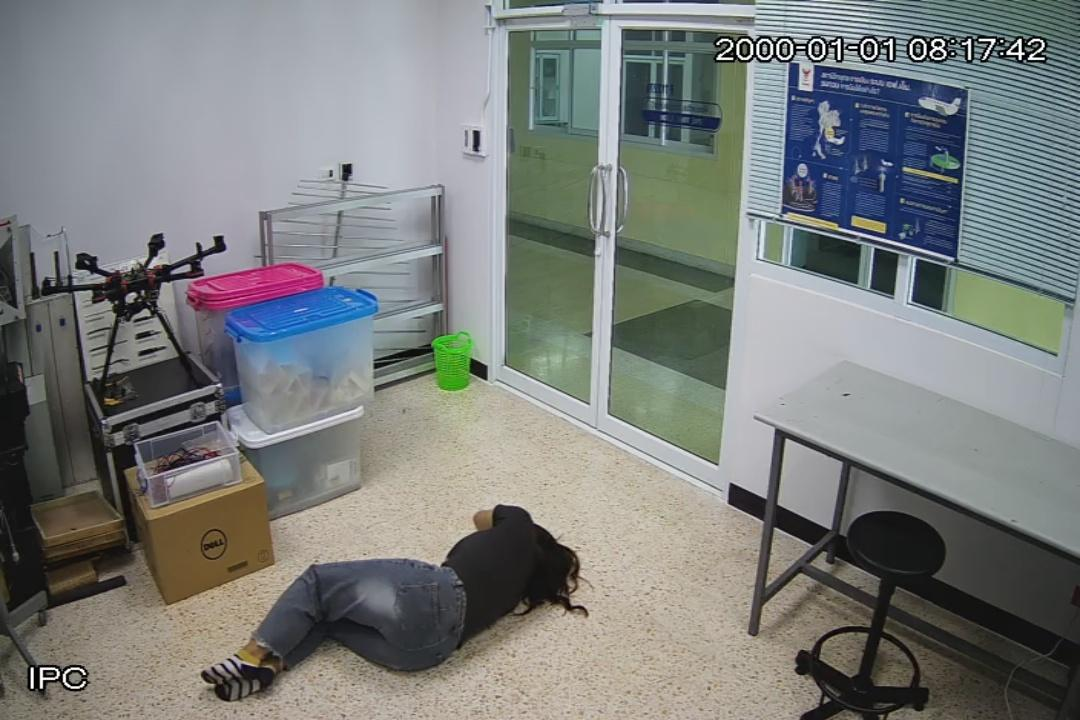fall: (220, 507, 575, 697)
